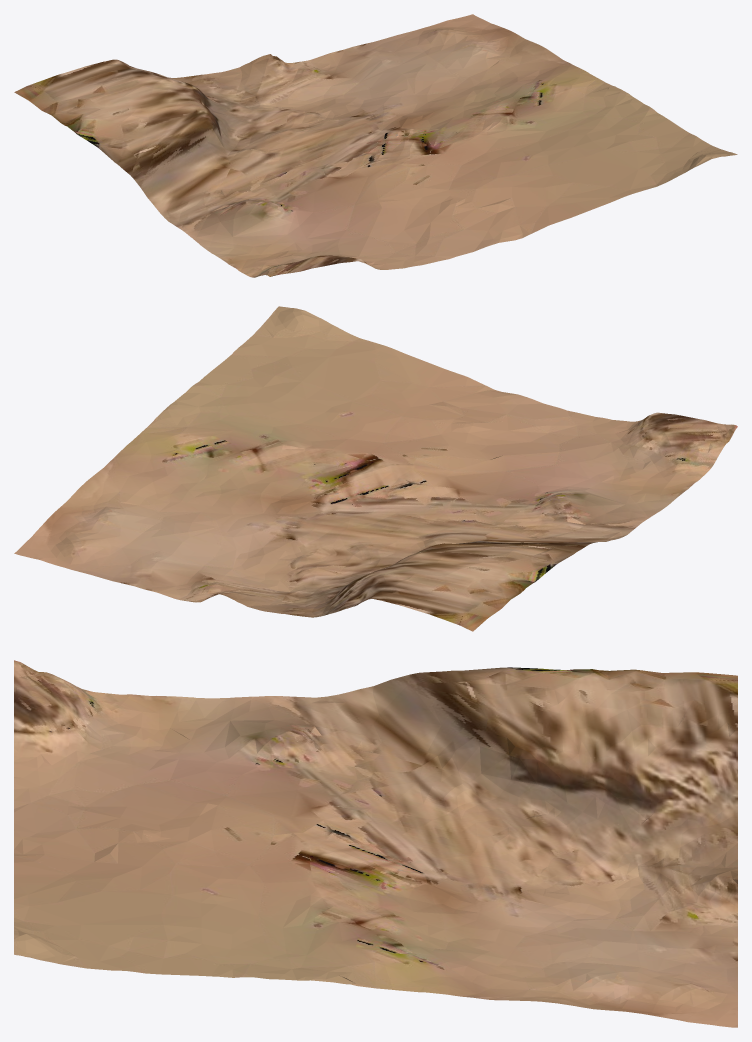
The picture shows the model from 3 angles, top to bottom: view 1: azimuth 30°, elevation 25°; view 2: azimuth 150°, elevation 25°; view 3: azimuth 270°, elevation 25°; orthographic projection. The views are drawn at different scales.
Size of the model in its own units: 1.04 by 0.137 by 1.04.
Materials: 2 (2 with a texture image).
